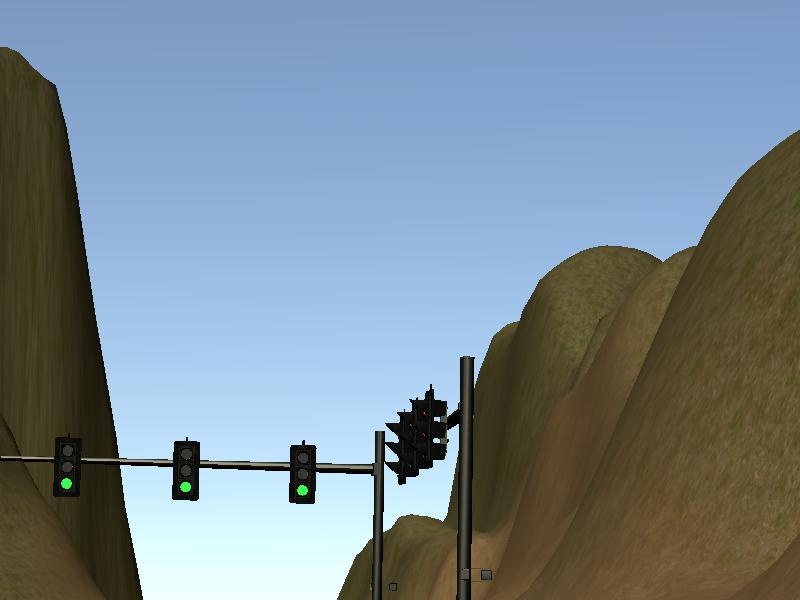green: (287, 443, 318, 501), (172, 442, 200, 499), (54, 439, 80, 496)
